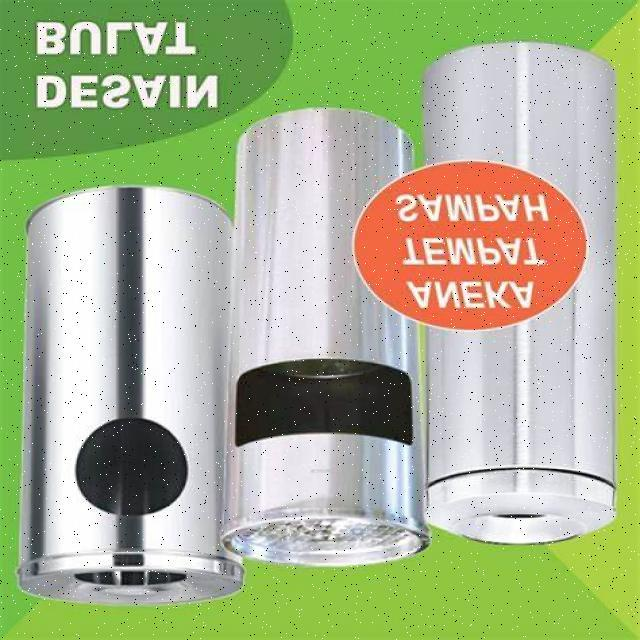garbage container: (15, 163, 243, 619), (432, 44, 629, 549), (226, 115, 434, 568)
